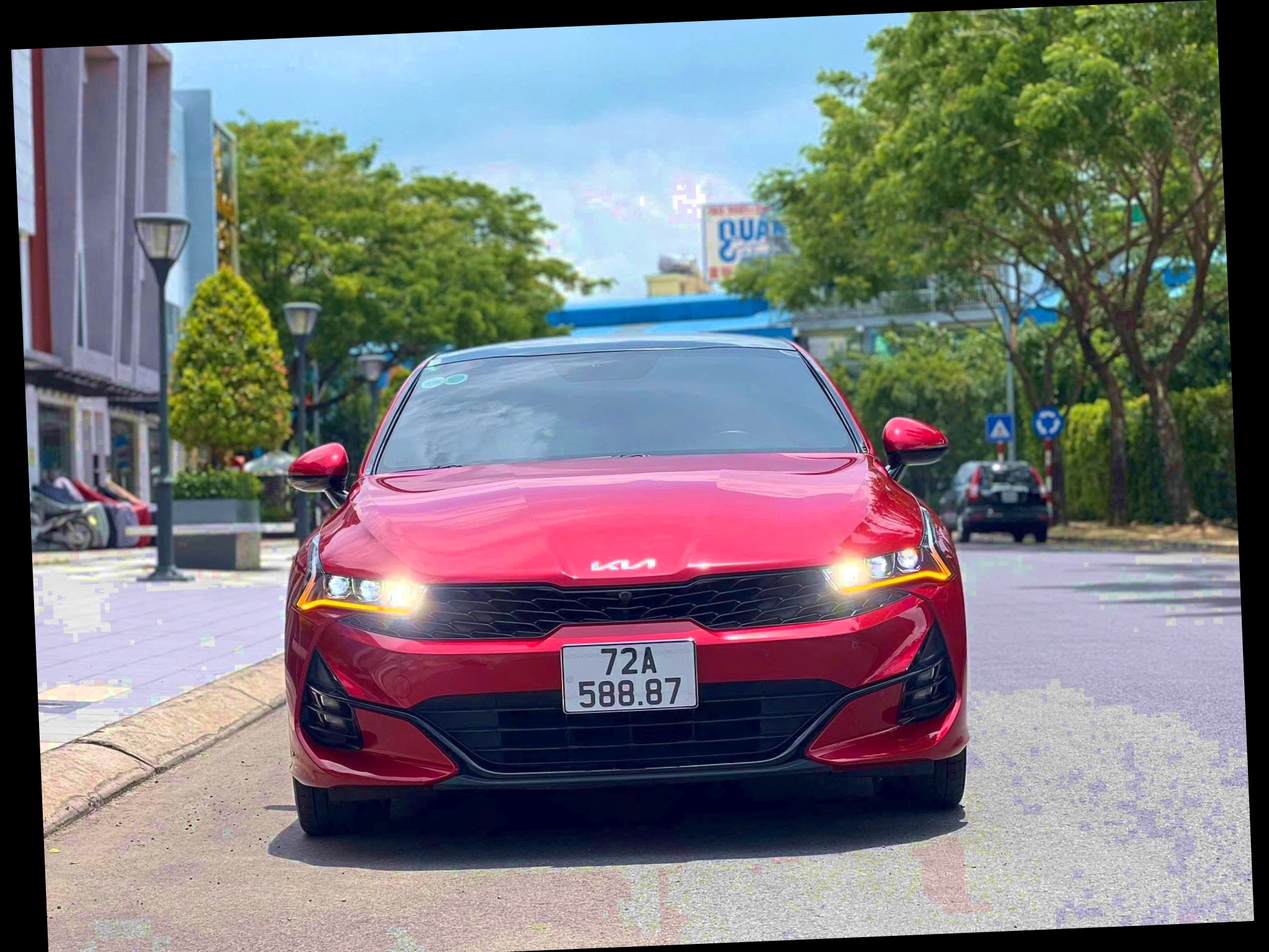Bien-so: (571, 629, 715, 728)
